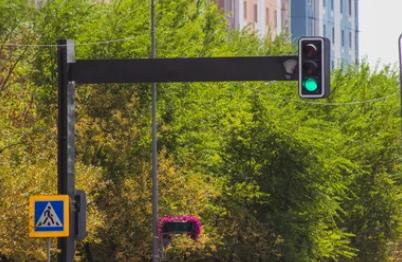green_light: (299, 37, 325, 97)
